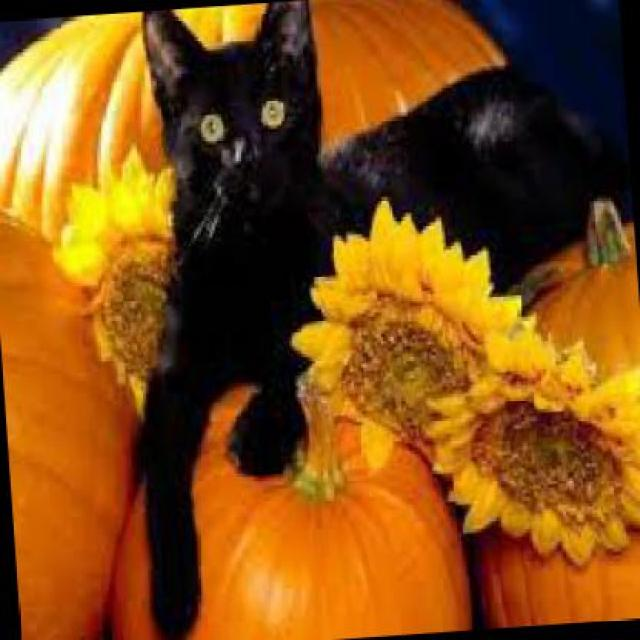animals: (121, 0, 626, 295)
